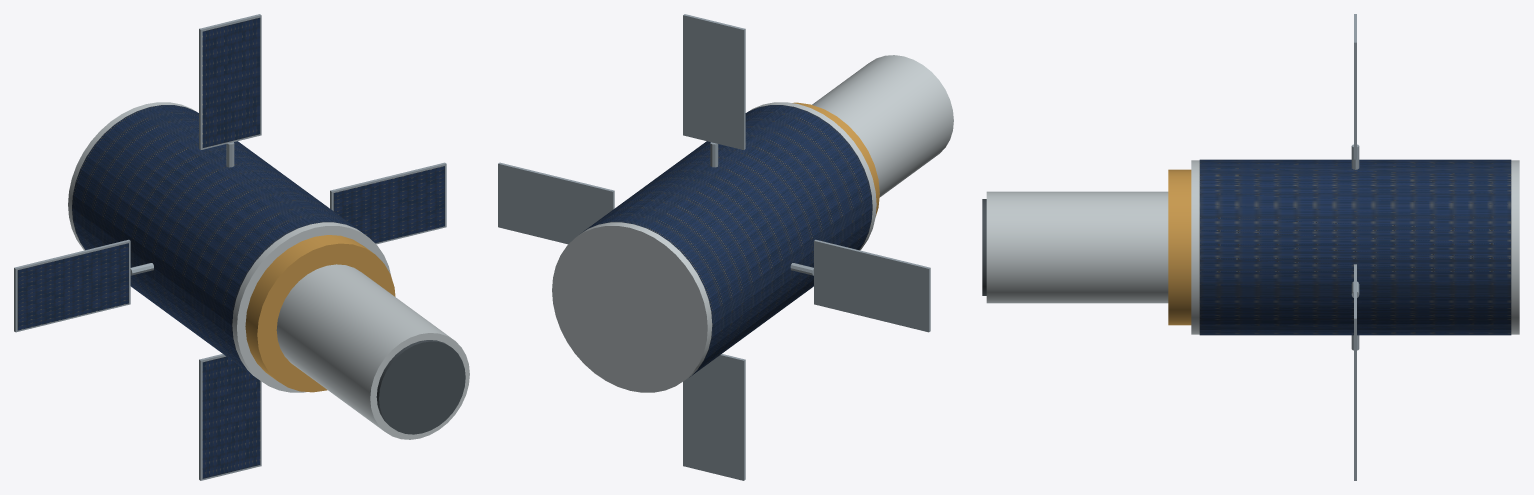
Rendered from ref-dsp-p2u-15453.glb.
3 views of the same model, side by side, from view 1: azimuth 30°, elevation 25°; view 2: azimuth 150°, elevation 25°; view 3: azimuth 270°, elevation 25° (orthographic). The views are drawn at different scales.
Parts seen in each view (by area): view 1: Body-mounted solar cells, Solar cell panel (×4), Optical instrument housing, Despun equipment deck, Telescope aperture, Solar drum core, Radial paddle frame (×4); view 2: Body-mounted solar cells, Radial paddle frame (×4), Solar drum core, Optical instrument housing, Despun equipment deck; view 3: Body-mounted solar cells, Optical instrument housing, Despun equipment deck, Solar drum core.
Part boxes in pixels (x1,y1,x2,y2): Body-mounted solar cells: (72, 105, 363, 376); Solar cell panel (×4): (17, 17, 444, 478); Optical instrument housing: (276, 264, 469, 439); Despun equipment deck: (245, 235, 395, 392); Telescope aperture: (376, 340, 465, 434); Solar drum core: (68, 102, 390, 392); Radial paddle frame (×4): (14, 14, 446, 480); Body-mounted solar cells: (582, 105, 872, 377); Radial paddle frame (×4): (498, 14, 930, 480); Solar drum core: (552, 102, 876, 392); Optical instrument housing: (812, 55, 953, 197); Despun equipment deck: (792, 102, 879, 216); Body-mounted solar cells: (1199, 159, 1511, 335); Optical instrument housing: (986, 191, 1168, 303); Despun equipment deck: (1168, 169, 1191, 325); Solar drum core: (1191, 160, 1519, 334).
Size of the model in its own units: 8.58 by 8.58 by 9.53.
Materials: 5 (1 with a texture image).
